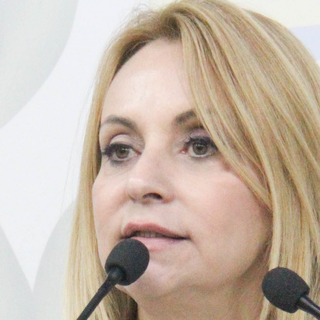eye: (174, 131, 220, 161), (100, 141, 141, 166)
